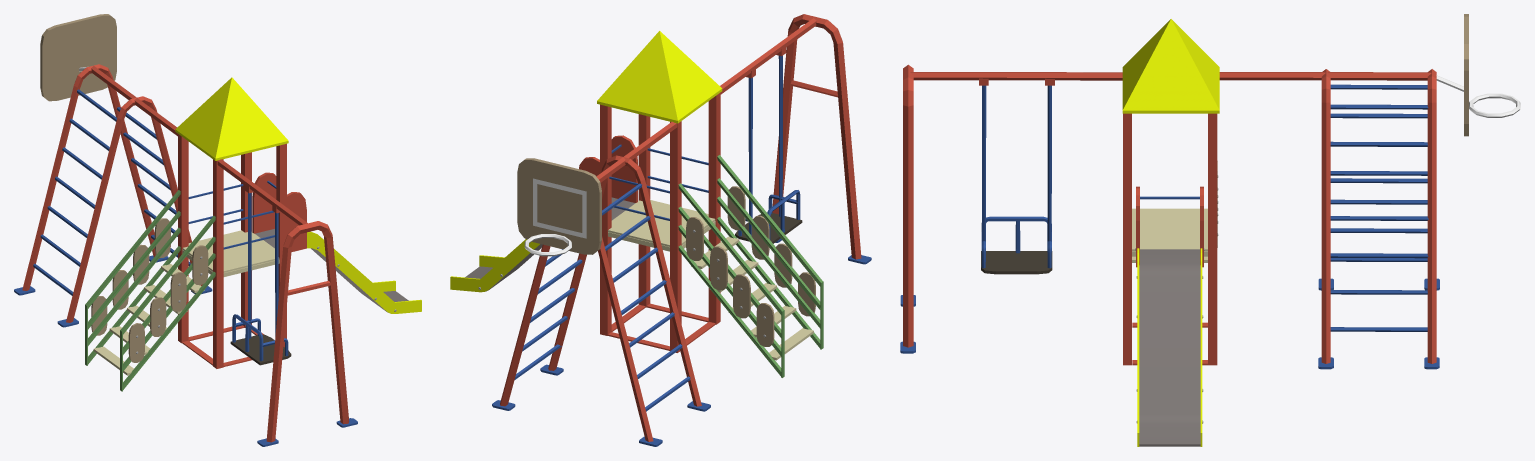
Rendered from playset2.glb.
3 renders of one model, left to right at view 1: azimuth 30°, elevation 25°; view 2: azimuth 150°, elevation 25°; view 3: azimuth 270°, elevation 25°, orthographic. The views are drawn at different scales.
Visible parts, largest first — view 1: SM_Playground_02; view 2: SM_Playground_02; view 3: SM_Playground_02.
Boxes of the visible parts, x1,y1,x2,y2 form: SM_Playground_02: (14, 14, 421, 446); SM_Playground_02: (450, 14, 871, 446); SM_Playground_02: (900, 14, 1520, 446).
Bounding box in the file's own units: 3.84 × 3.24 × 5.58.
Materials: 1 (1 with a texture image).
